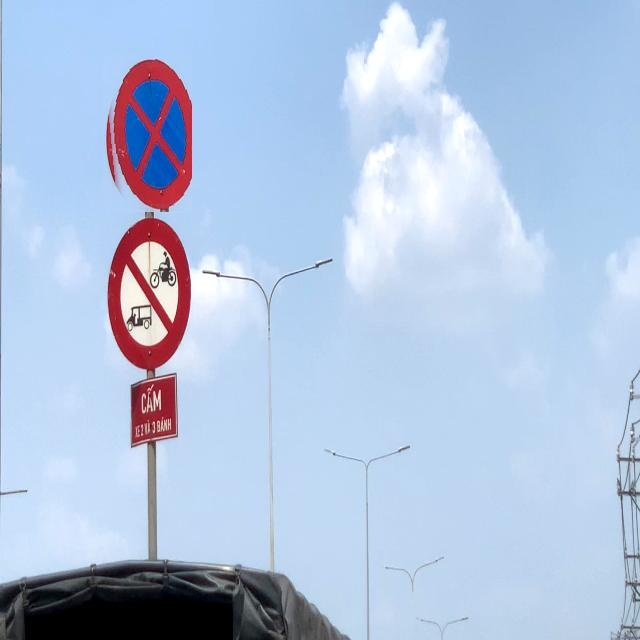bien_cam: (103, 55, 192, 213)
